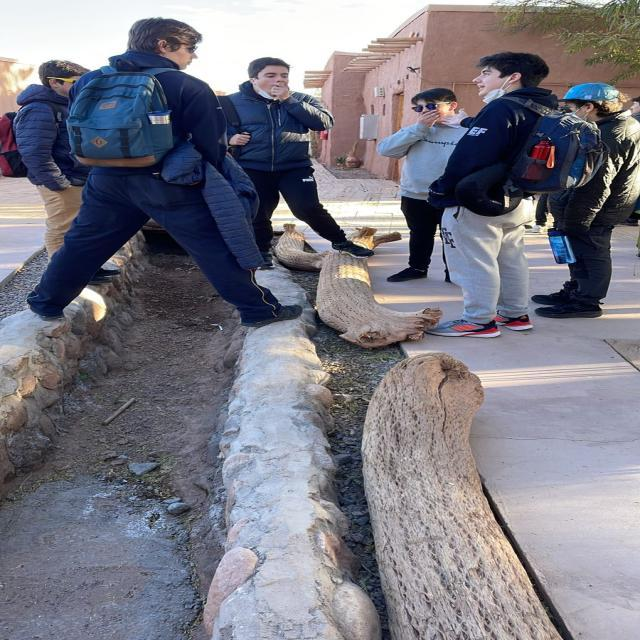person: (24, 5, 314, 328), (205, 51, 388, 262), (424, 46, 556, 337), (0, 46, 122, 288), (360, 74, 490, 289), (537, 77, 640, 321)
